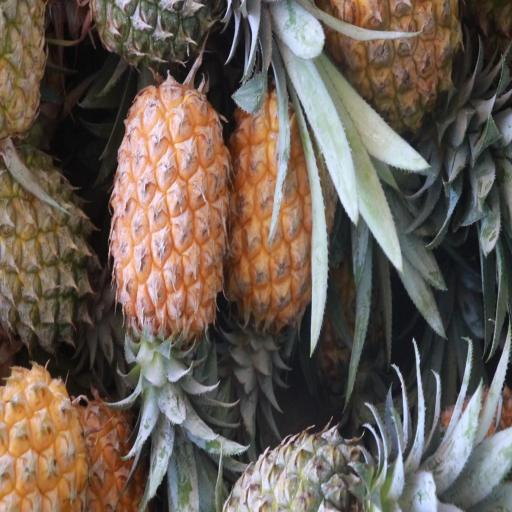------------------------------: (0, 149, 95, 342)
Pineapple - v8 v1: (110, 80, 230, 334), (230, 86, 332, 320), (328, 0, 463, 137)
